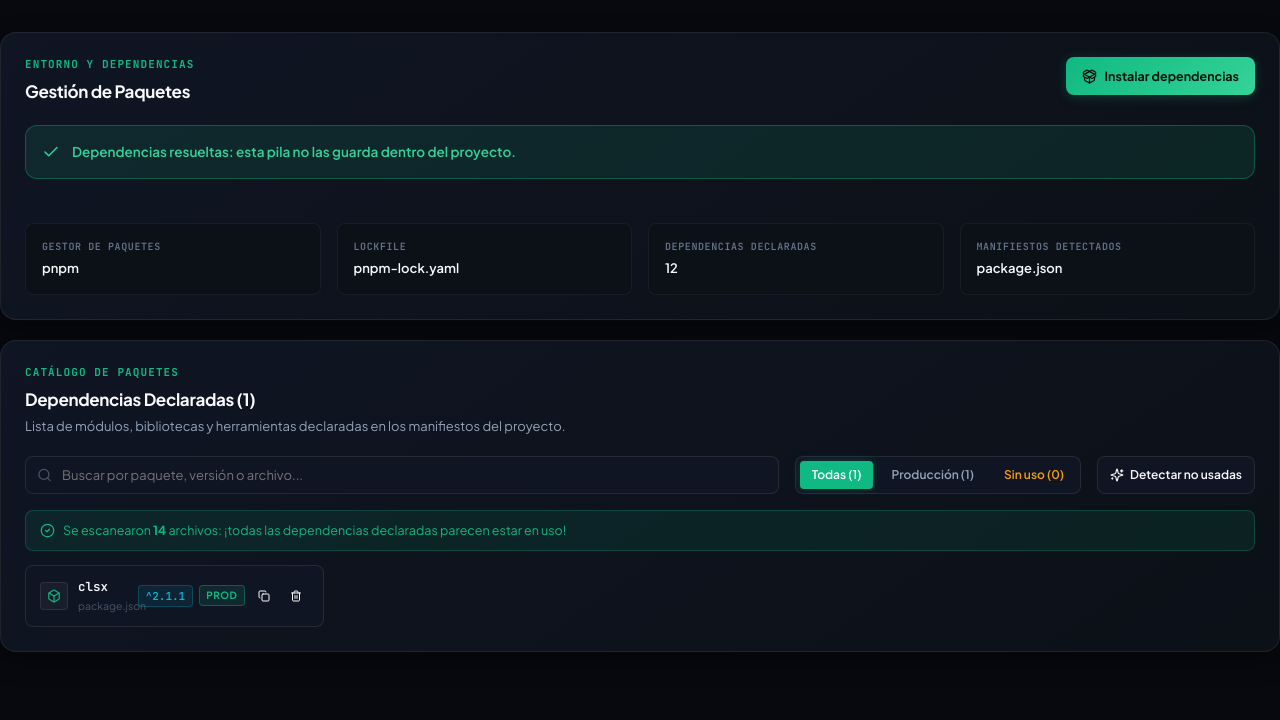
Test: DependenciesTab: detección y eliminación de dependencias huérfanas › al hacer clic directamente en la tarjeta de una dependencia se abre el modal de gestión
The width and height of the screenshot is (1280, 720).
// La tarjeta es seleccionable y tiene rol de botón
What coordinates should you click on to do the following:
click the button titled "clic para ver detalles y gestionar clsx"
I would click on:
 (174, 596)
Its box is [25,565,324,626].
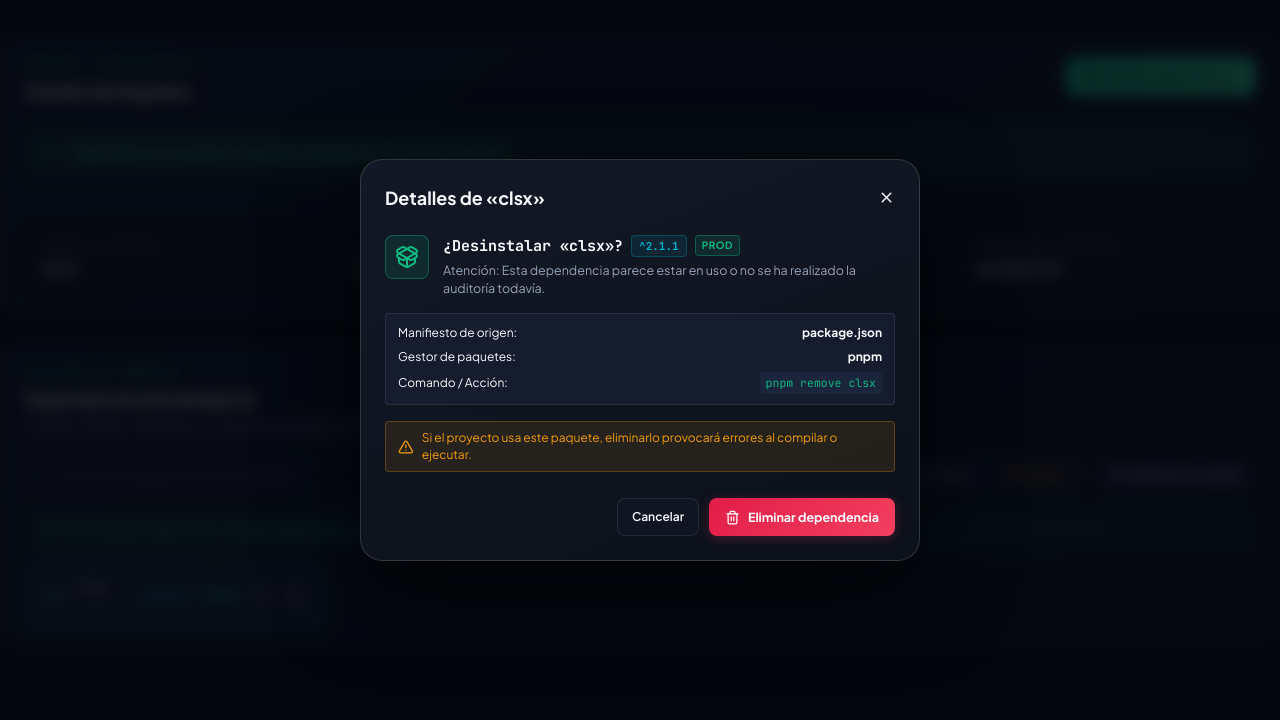
expect the heading "¿Desinstalar «clsx»?" is shown: met, box [443,235,623,257]
expect the text "pnpm remove clsx" is shown: met, box [760,372,882,394]
// Cerrar el modal
What coordinates should you click on to do the following:
click the button "Cancelar"
I would click on:
 (658, 517)
Its box is [617,498,699,536].
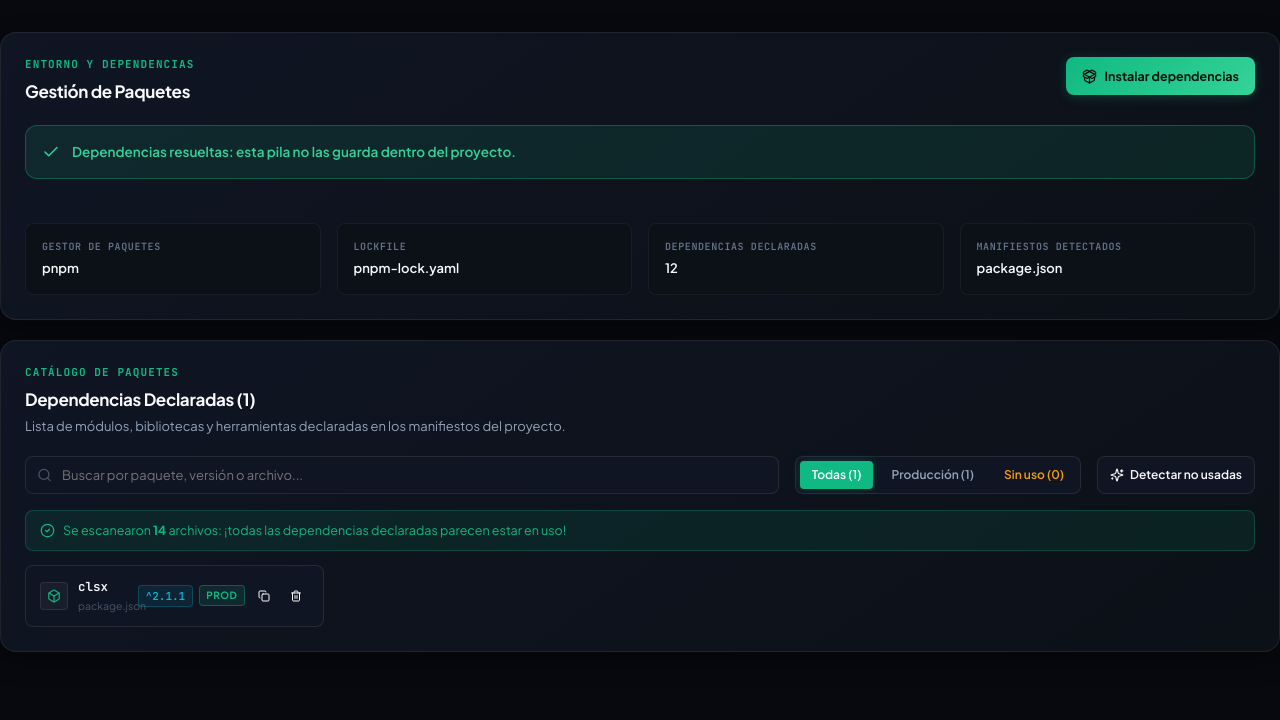
expect the heading "¿Desinstalar «clsx»?" is gone: met
